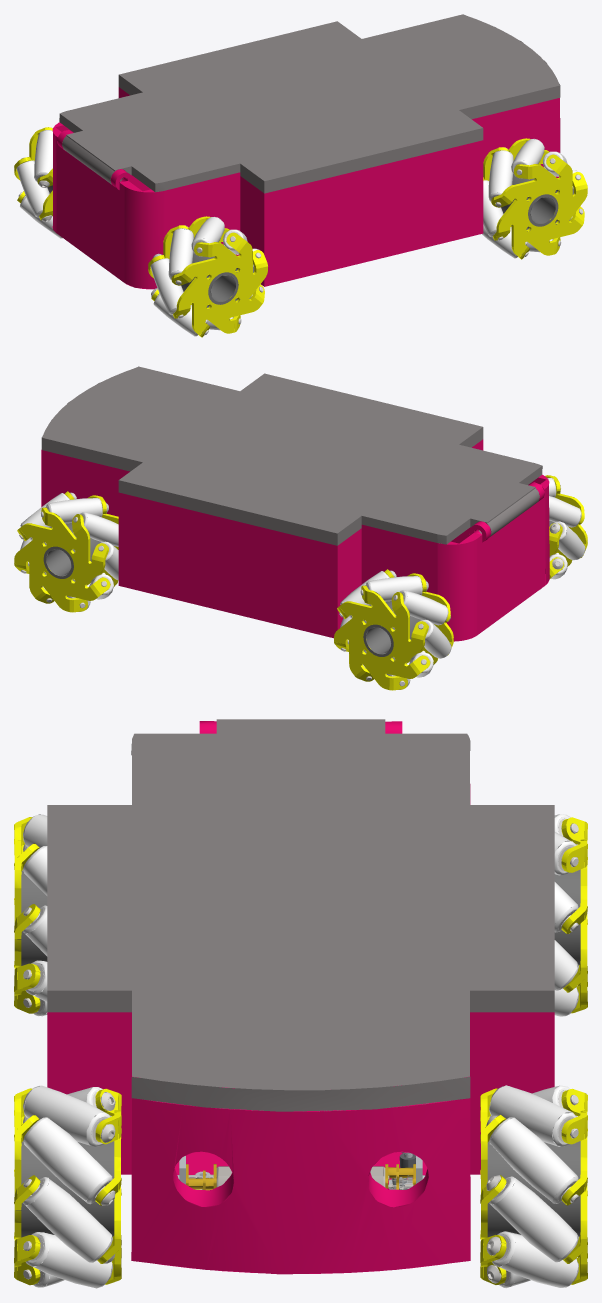
The model's file is red_mecanum.glb.
3 renders of one model, top to bottom at view 1: azimuth 30°, elevation 25°; view 2: azimuth 150°, elevation 25°; view 3: azimuth 270°, elevation 25°, orthographic. The views are drawn at different scales.
Visible parts, largest first — view 1: base_link, wheel_rb, wheel_rf, wheel_lb; view 2: base_link, wheel_lb, wheel_lf, wheel_rb; view 3: base_link, wheel_lf, wheel_rf, wheel_lb, wheel_rb.
Part boxes in pixels (<box>): base_link: <box>52,14,560,289</box>; wheel_rb: <box>148,216,267,337</box>; wheel_rf: <box>482,138,587,259</box>; wheel_lb: <box>14,127,62,238</box>; base_link: <box>41,366,549,641</box>; wheel_lb: <box>334,569,453,690</box>; wheel_lf: <box>14,491,118,612</box>; wheel_rb: <box>540,475,587,589</box>; base_link: <box>47,719,554,1274</box>; wheel_lf: <box>480,1085,587,1288</box>; wheel_rf: <box>14,1085,121,1288</box>; wheel_lb: <box>554,814,587,1016</box>; wheel_rb: <box>14,814,47,1016</box>.
Bounding box in the file's own units: 0.2625 × 0.079 × 0.1698.
